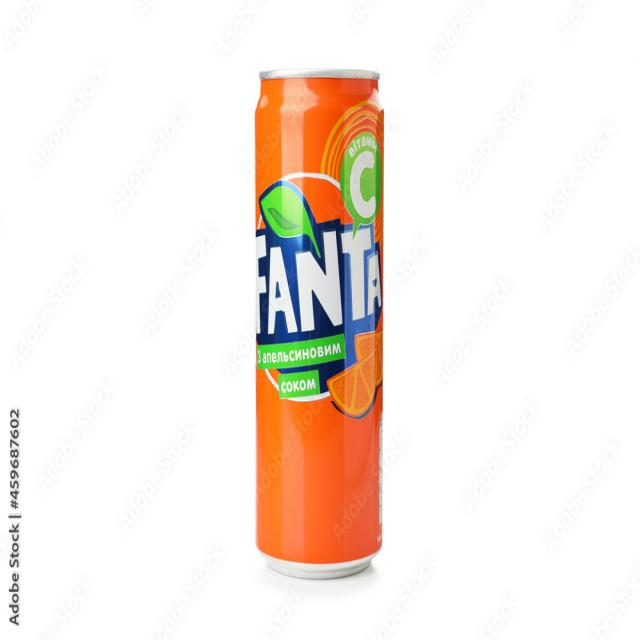fanta: (247, 56, 385, 580)
